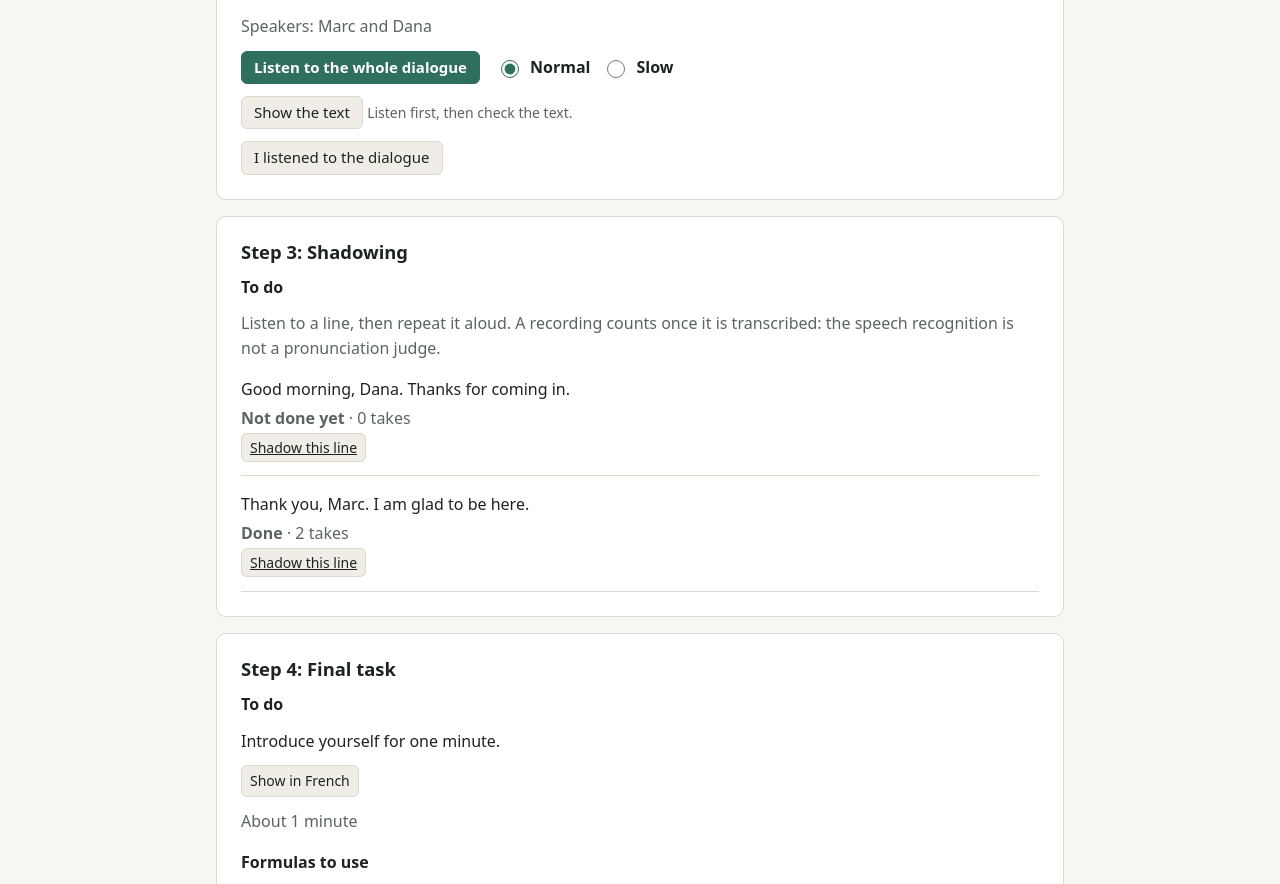
Scenario: Shadowing a line of a unit › takes the line and the unit from the unit page, clears the state, sends unit_id and keeps ?unit=
(page scrolled)
Click the link with aria-label "Shadow this line, number 1" at (304, 447), box 241,433 -> 366,462
(page scrolled)
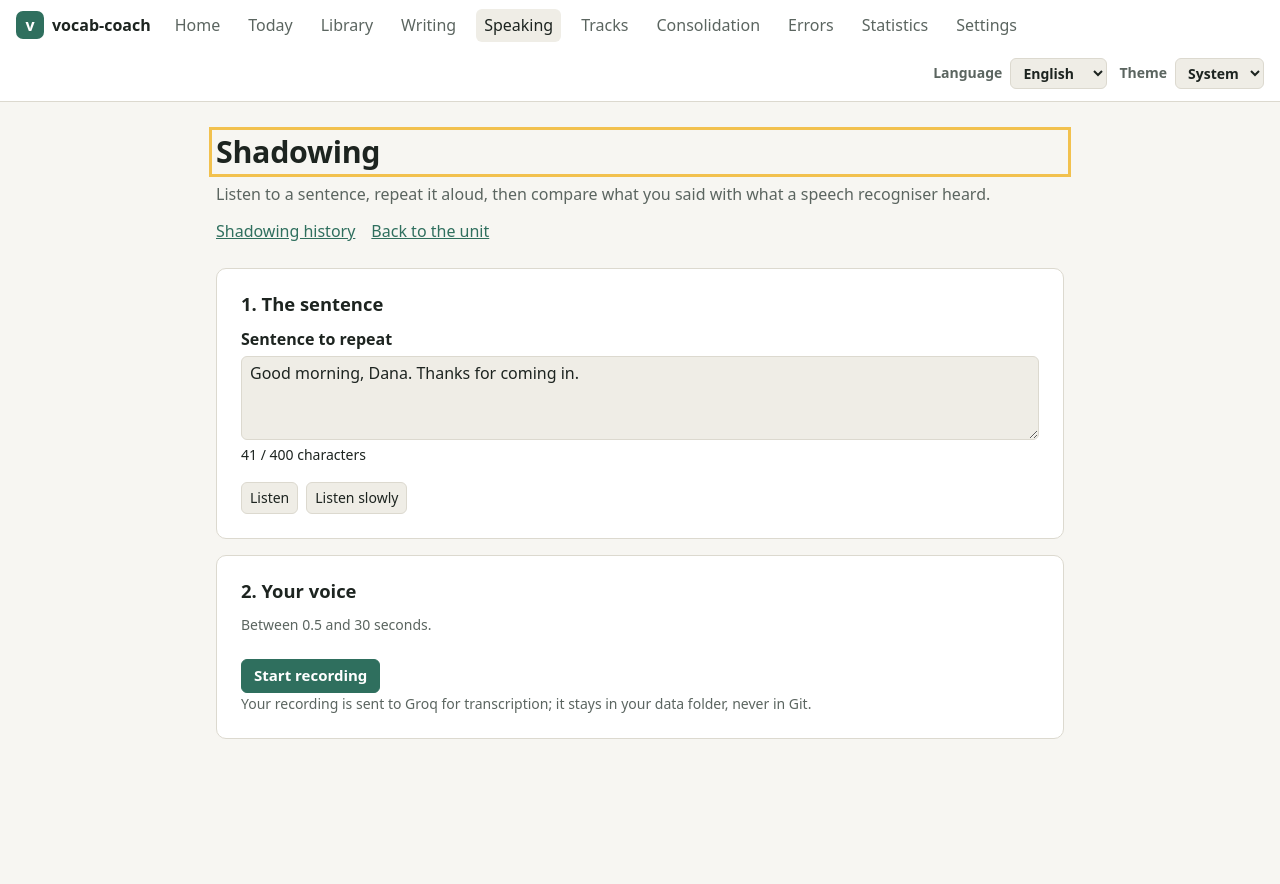
Now the text box labelled "Sentence to repeat" holds "Good morning, Dana. Thanks for coming in.", box 241,356 -> 1039,440
Click the button "Start recording" at (311, 676), box 241,659 -> 380,693
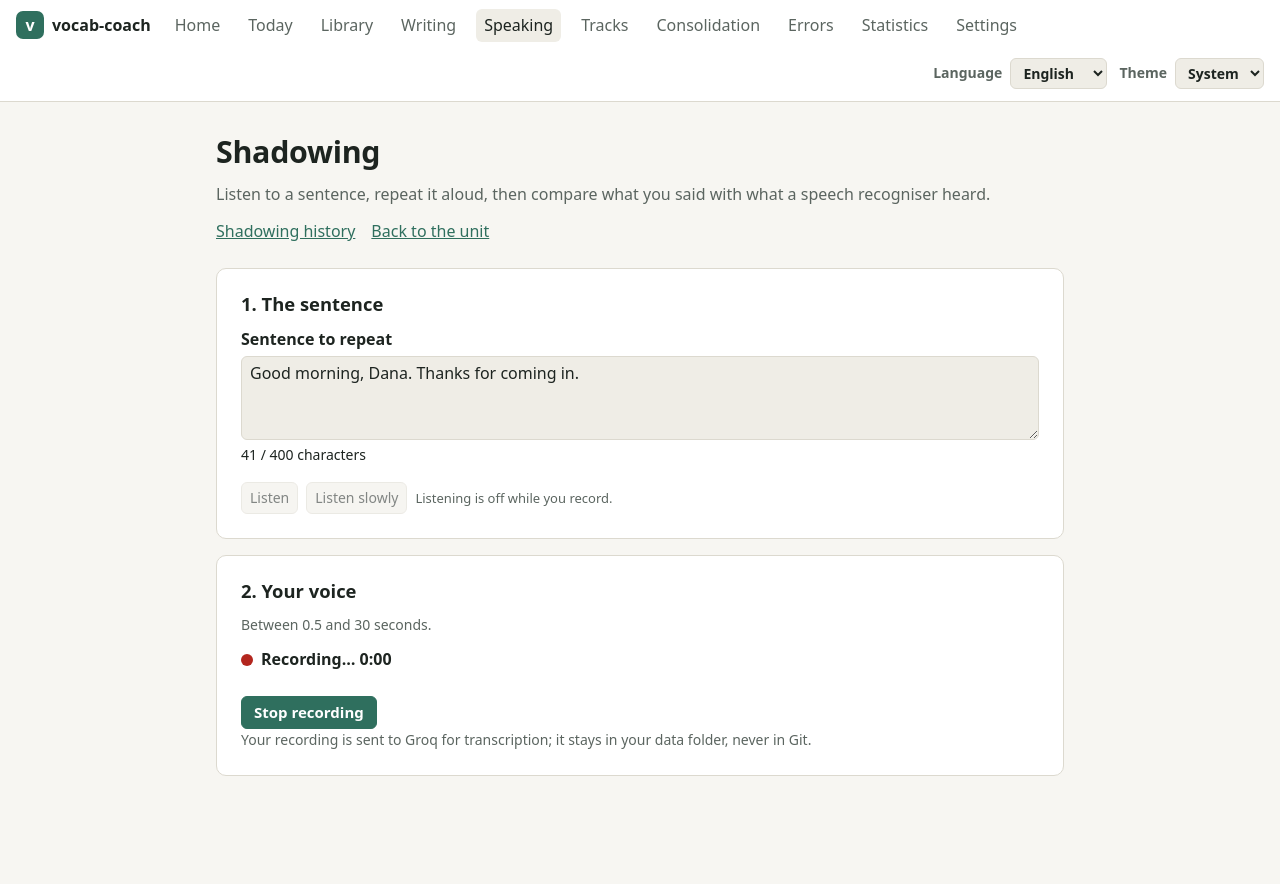
Click the button "Stop recording" at (309, 713), box 241,696 -> 377,729
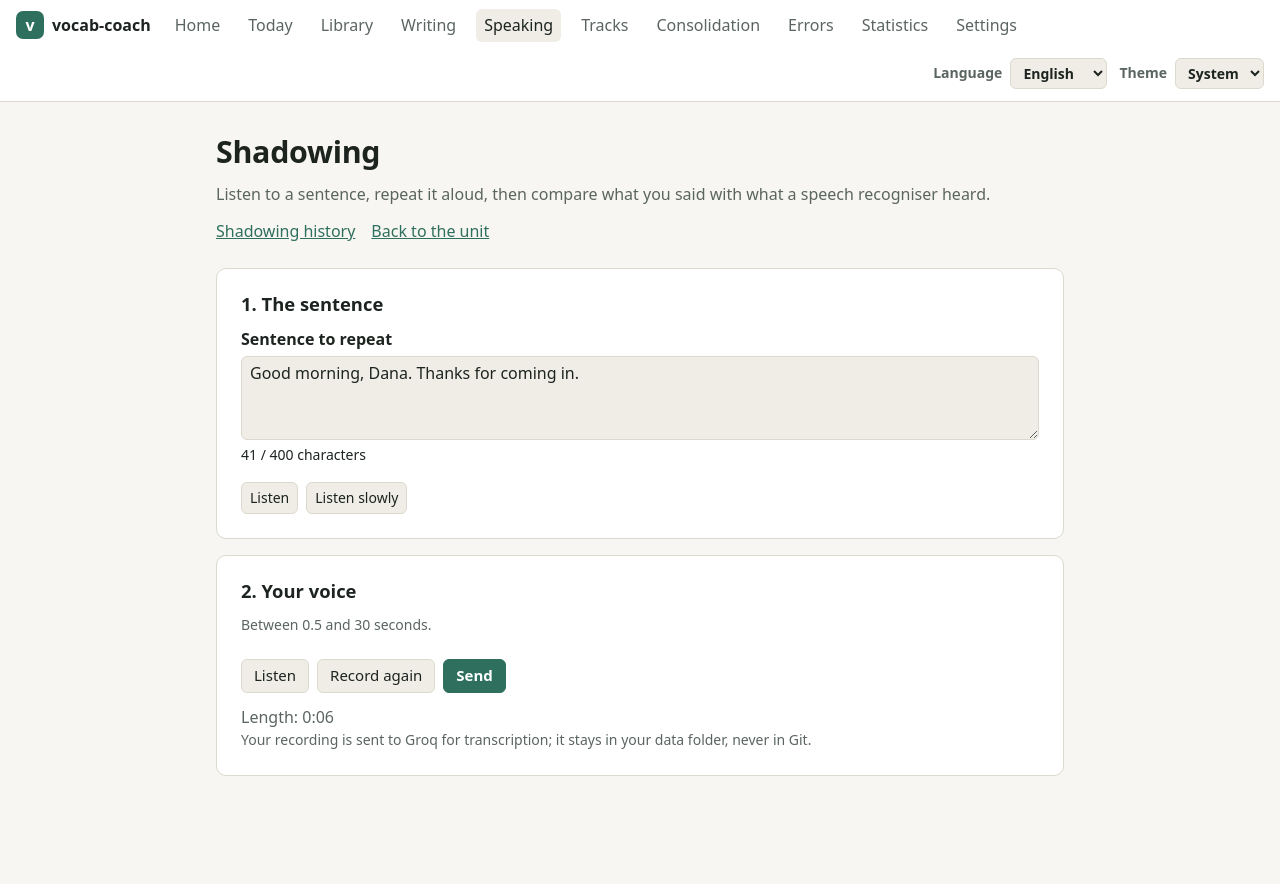
Now the button "Send" is shown
Click the button "Send" at (475, 676), box 443,659 -> 506,693
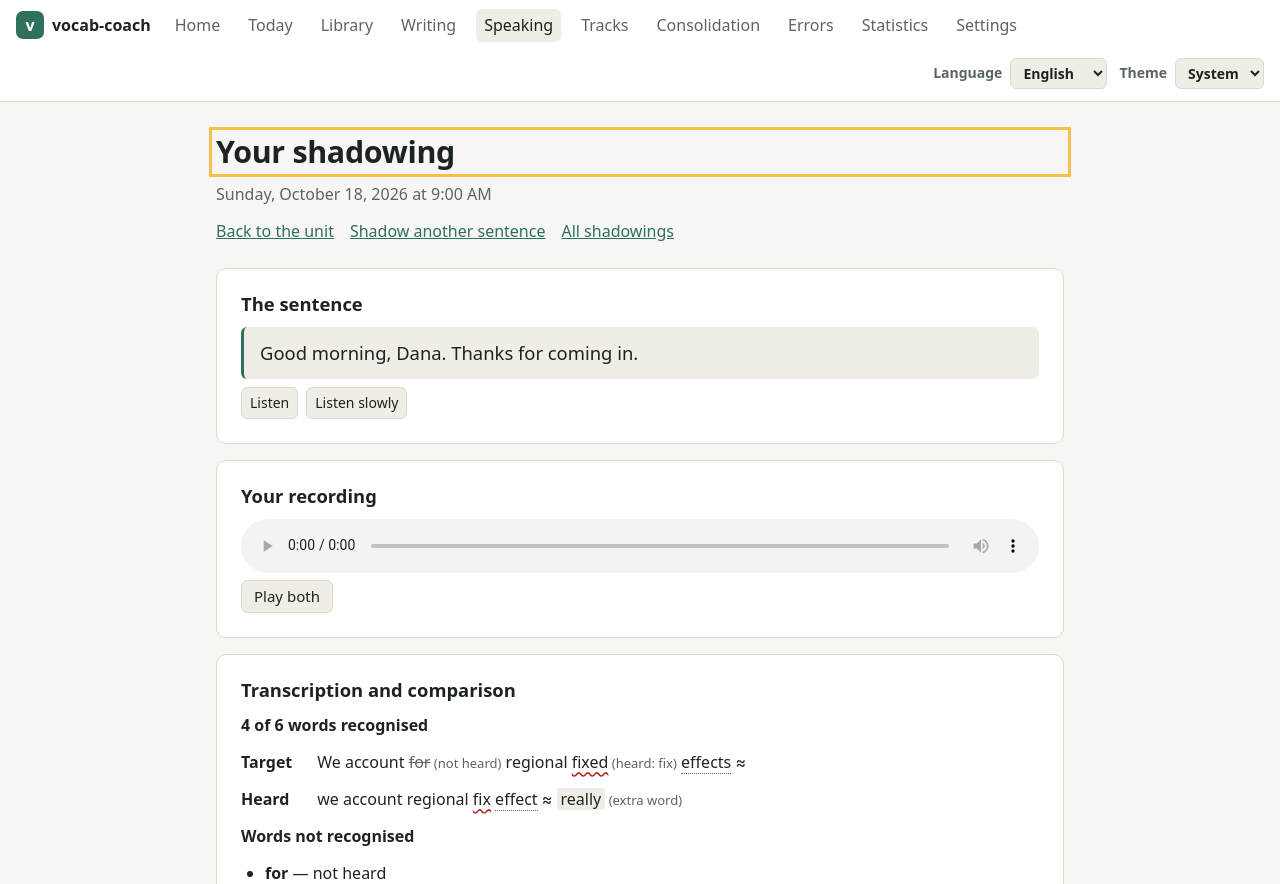
Now the heading "Your shadowing" is shown, box 216,131 -> 455,172
